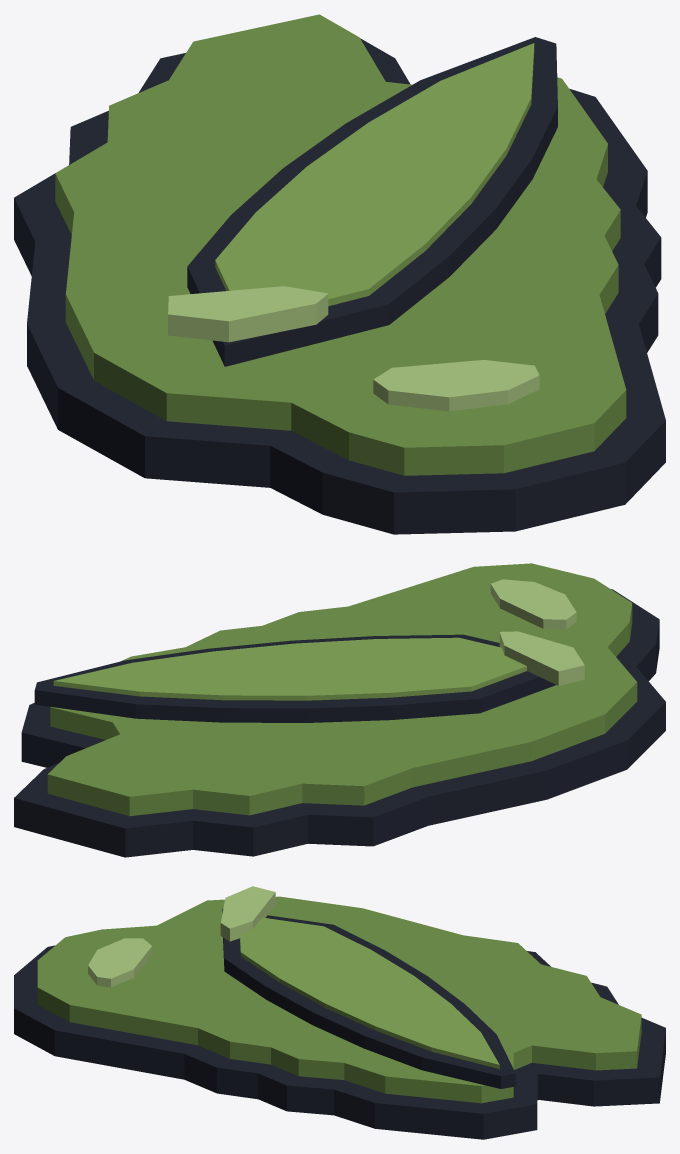
The model's file is aloe_vera.fbx.
3 views of the same model, one above another, from view 1: azimuth 30°, elevation 25°; view 2: azimuth 150°, elevation 25°; view 3: azimuth 270°, elevation 25° (orthographic). The views are drawn at different scales.
Visible parts, largest first — view 1: aloe_vera; view 2: aloe_vera; view 3: aloe_vera.
Part boxes in pixels (x1,y1,x2,y2): aloe_vera: [14, 14, 665, 534]; aloe_vera: [14, 563, 665, 857]; aloe_vera: [14, 886, 665, 1139].
Bounding box in the file's own units: 1.05 × 0.16 × 1.37.
Materials: 1 (1 with a texture image).
